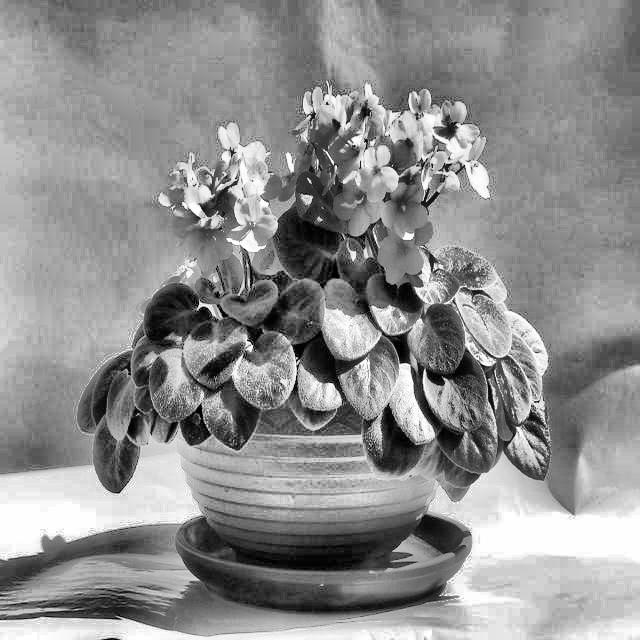plants: (73, 138, 563, 588)
